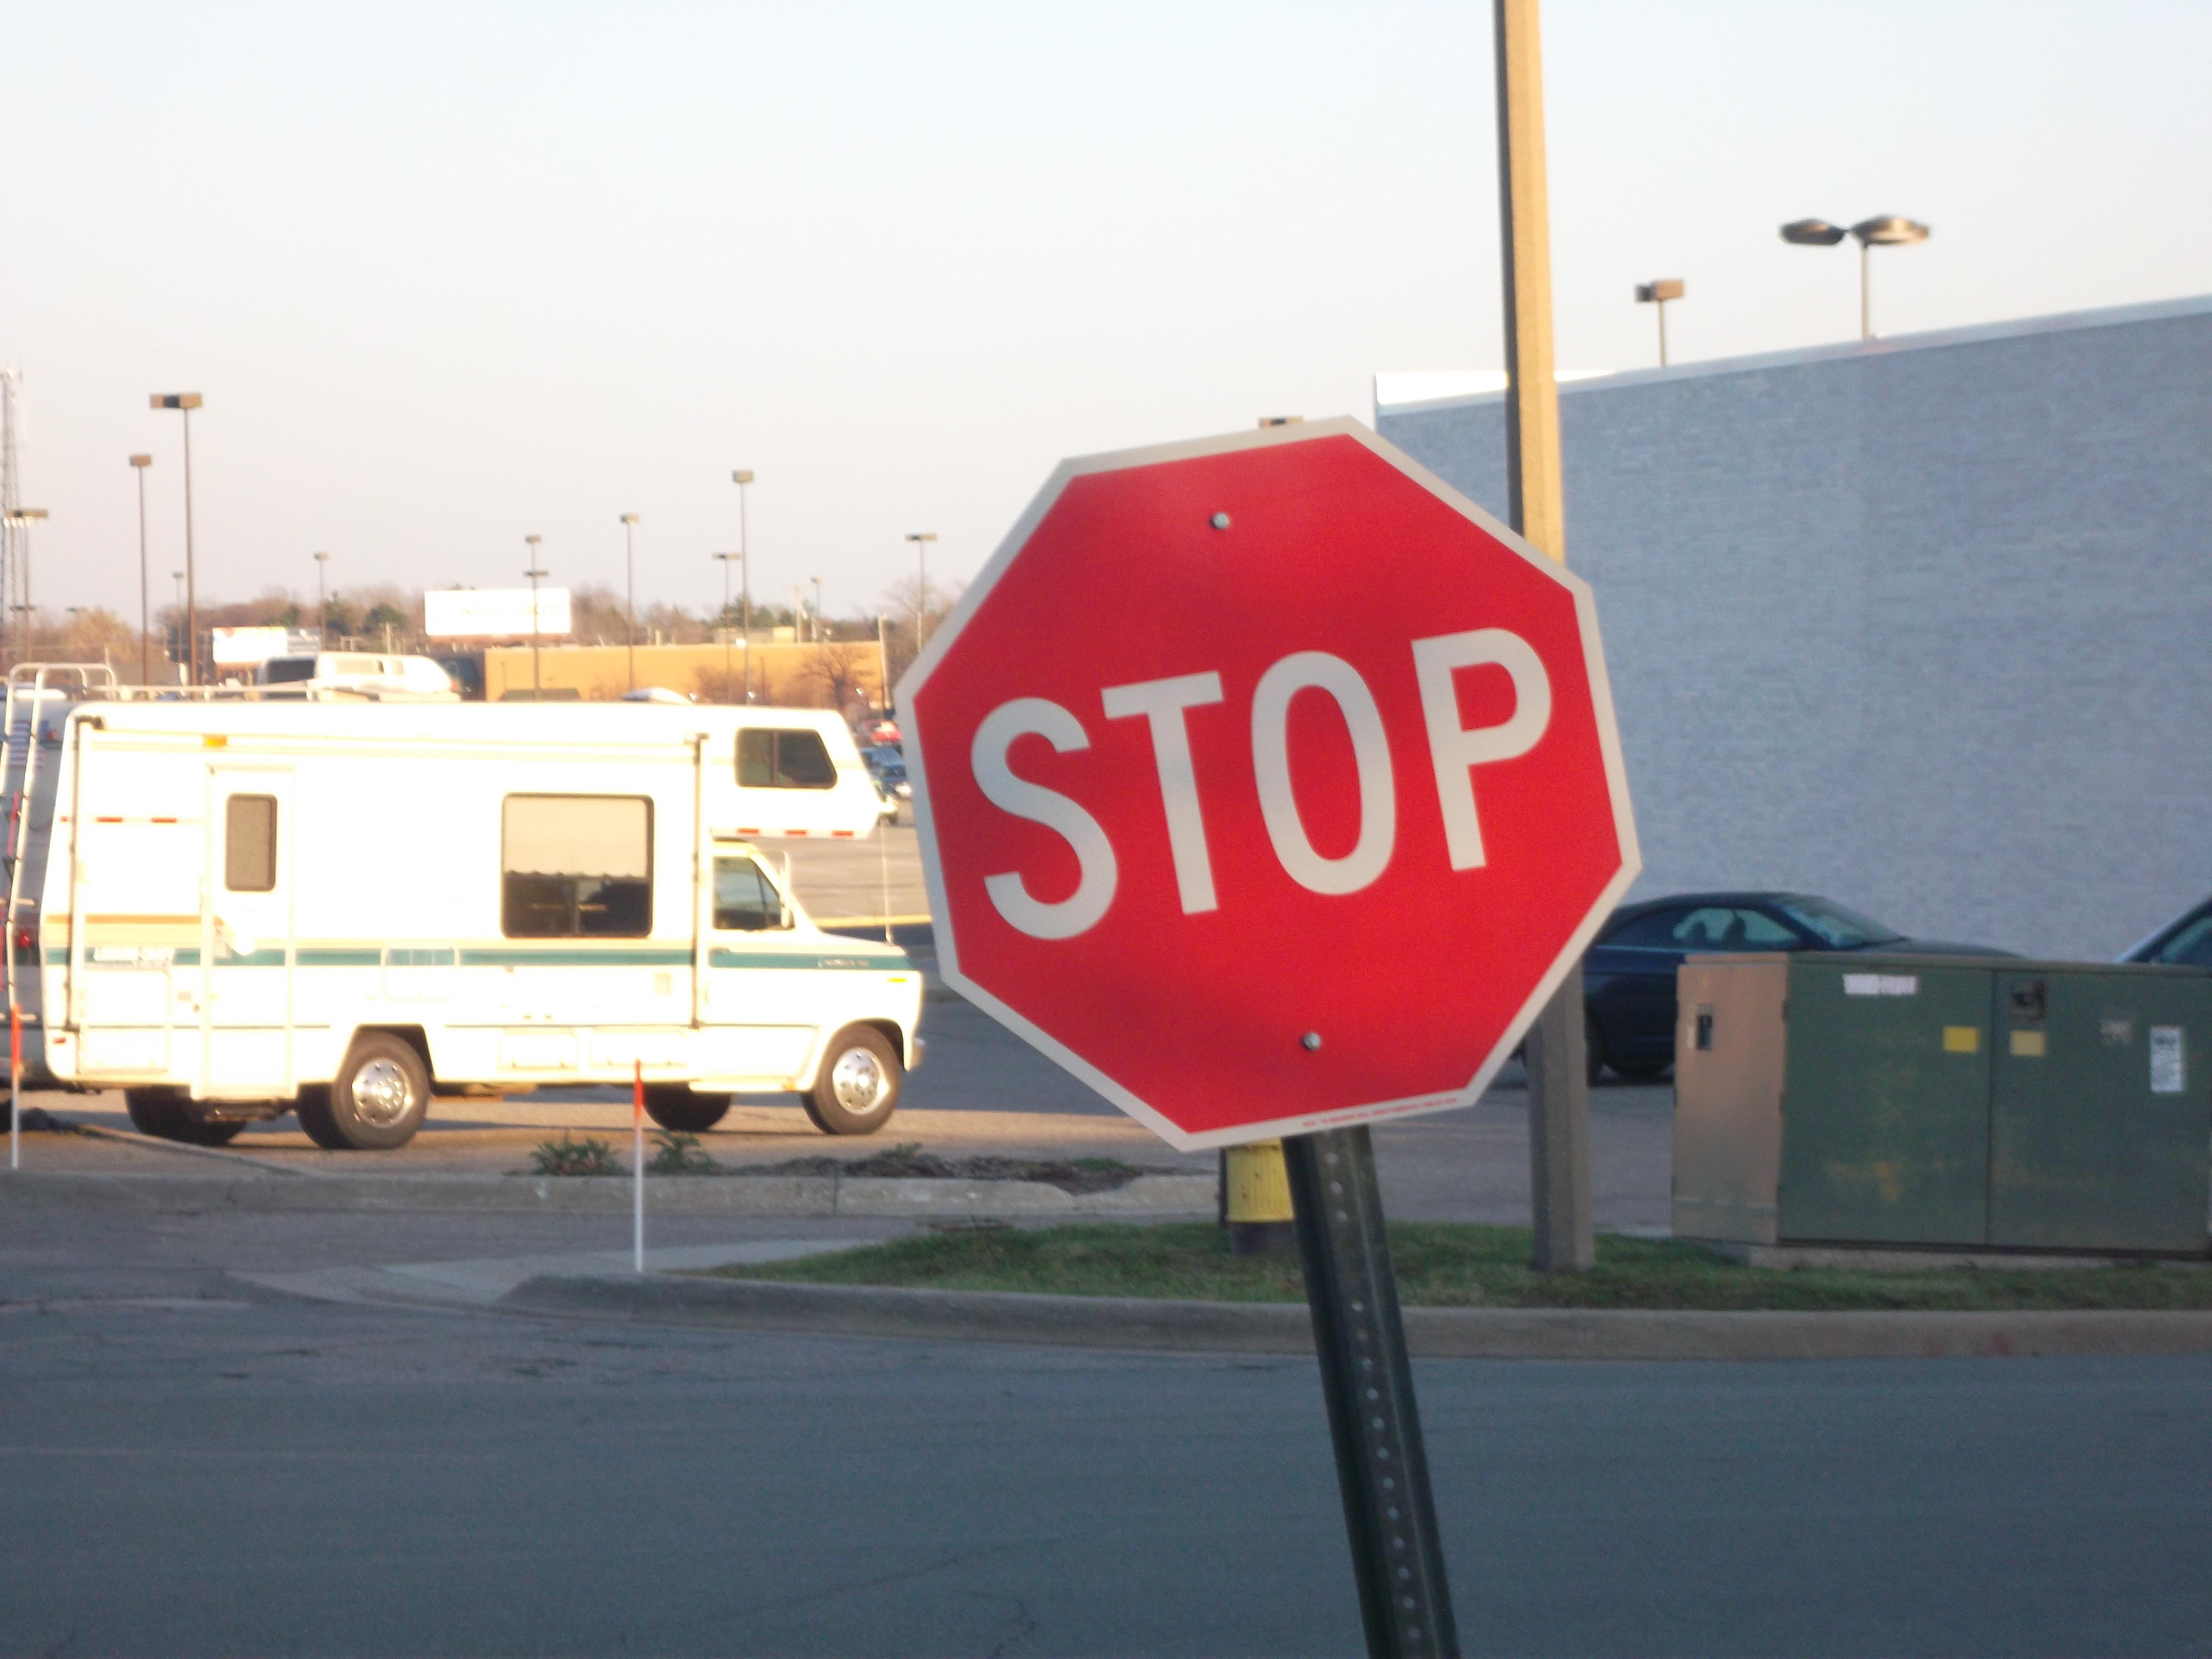stop: (902, 418, 1651, 1159)
